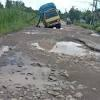Pothole: (0, 42, 75, 100), (40, 36, 100, 58)
